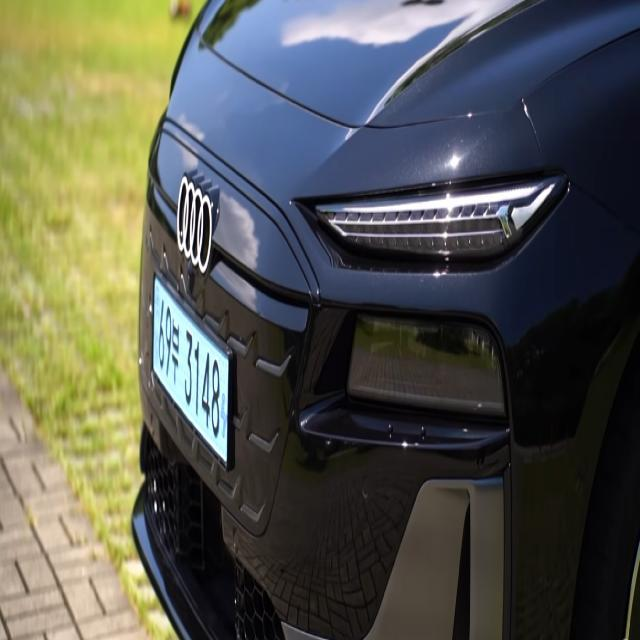car: (143, 256, 250, 492)
carev: (220, 346, 235, 465), (150, 277, 161, 376)
